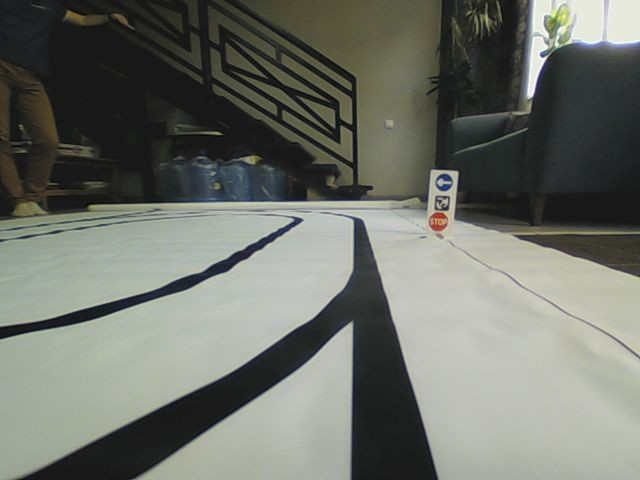Stop: (428, 211, 448, 231)
